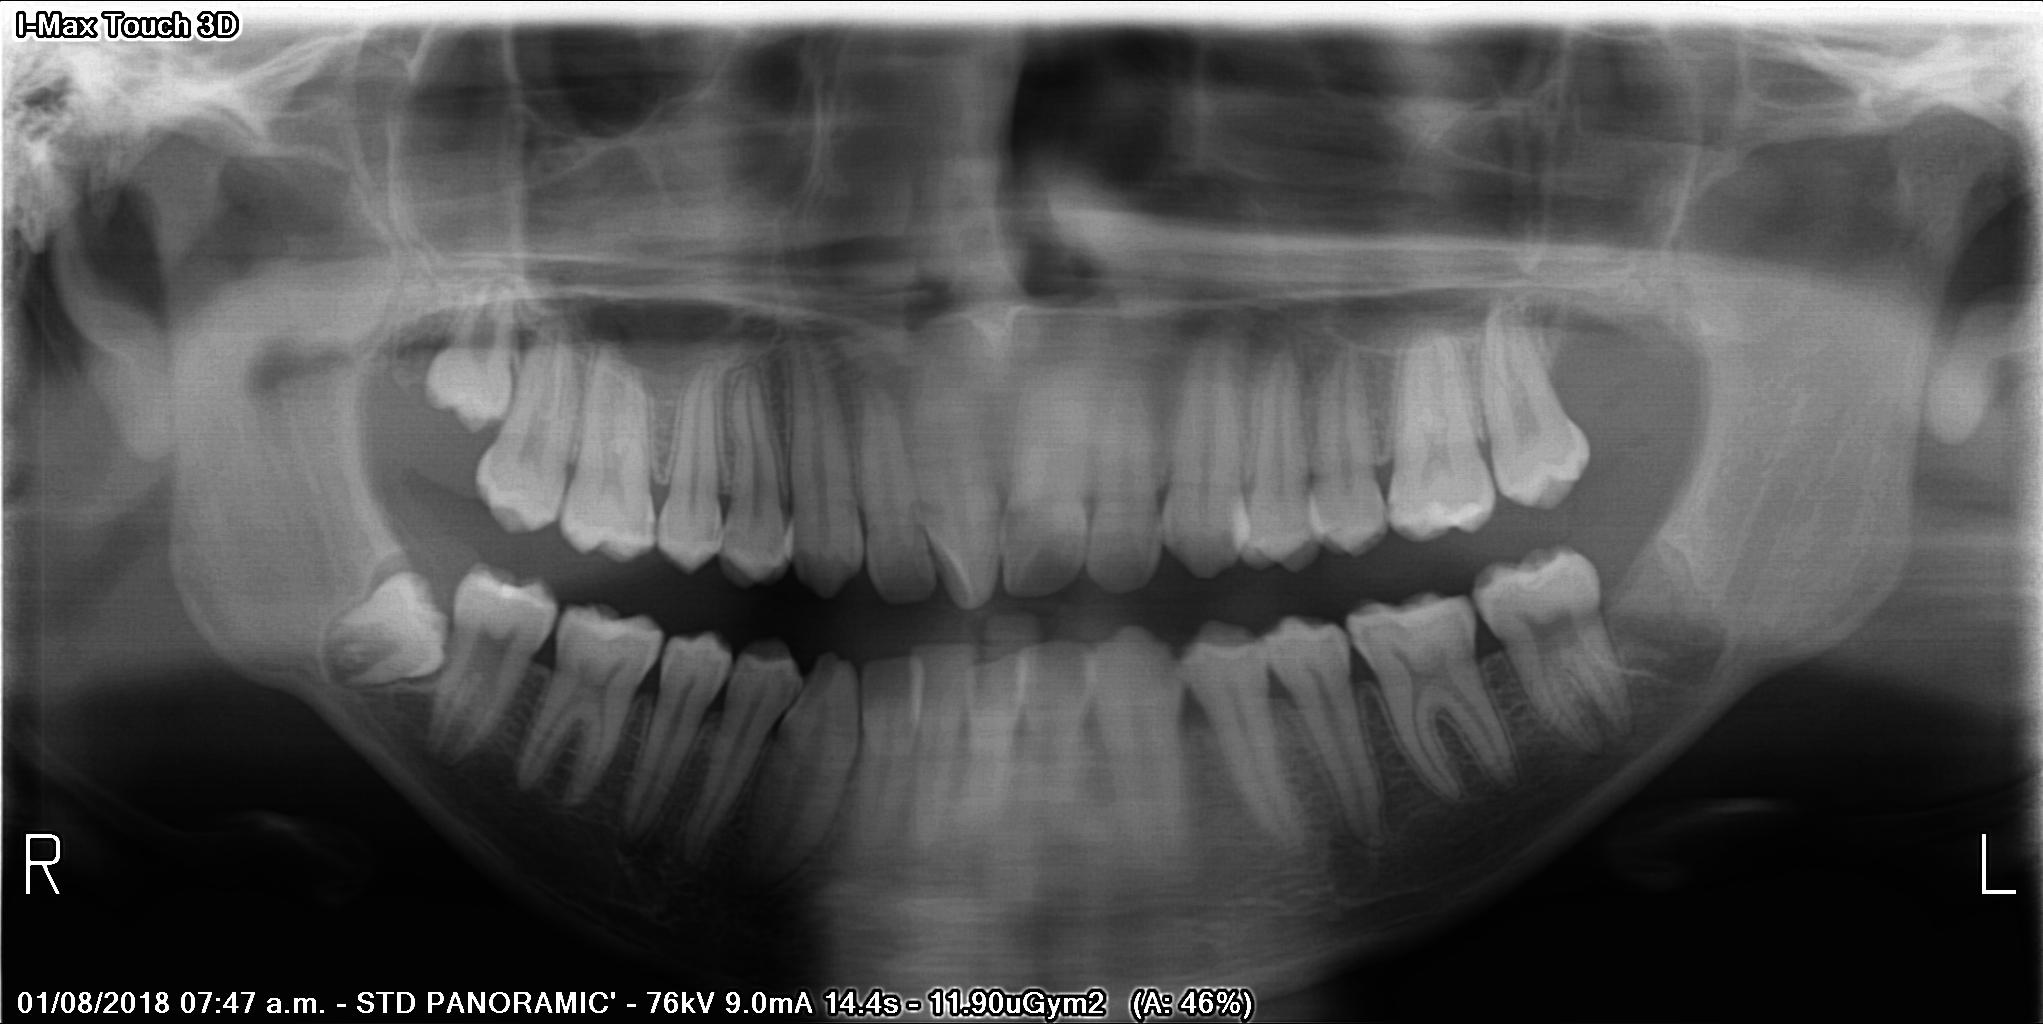Çürük Bölgesi: (1343, 618, 1371, 656)
